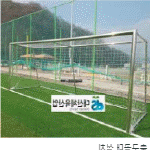goals: (6, 27, 149, 136)
